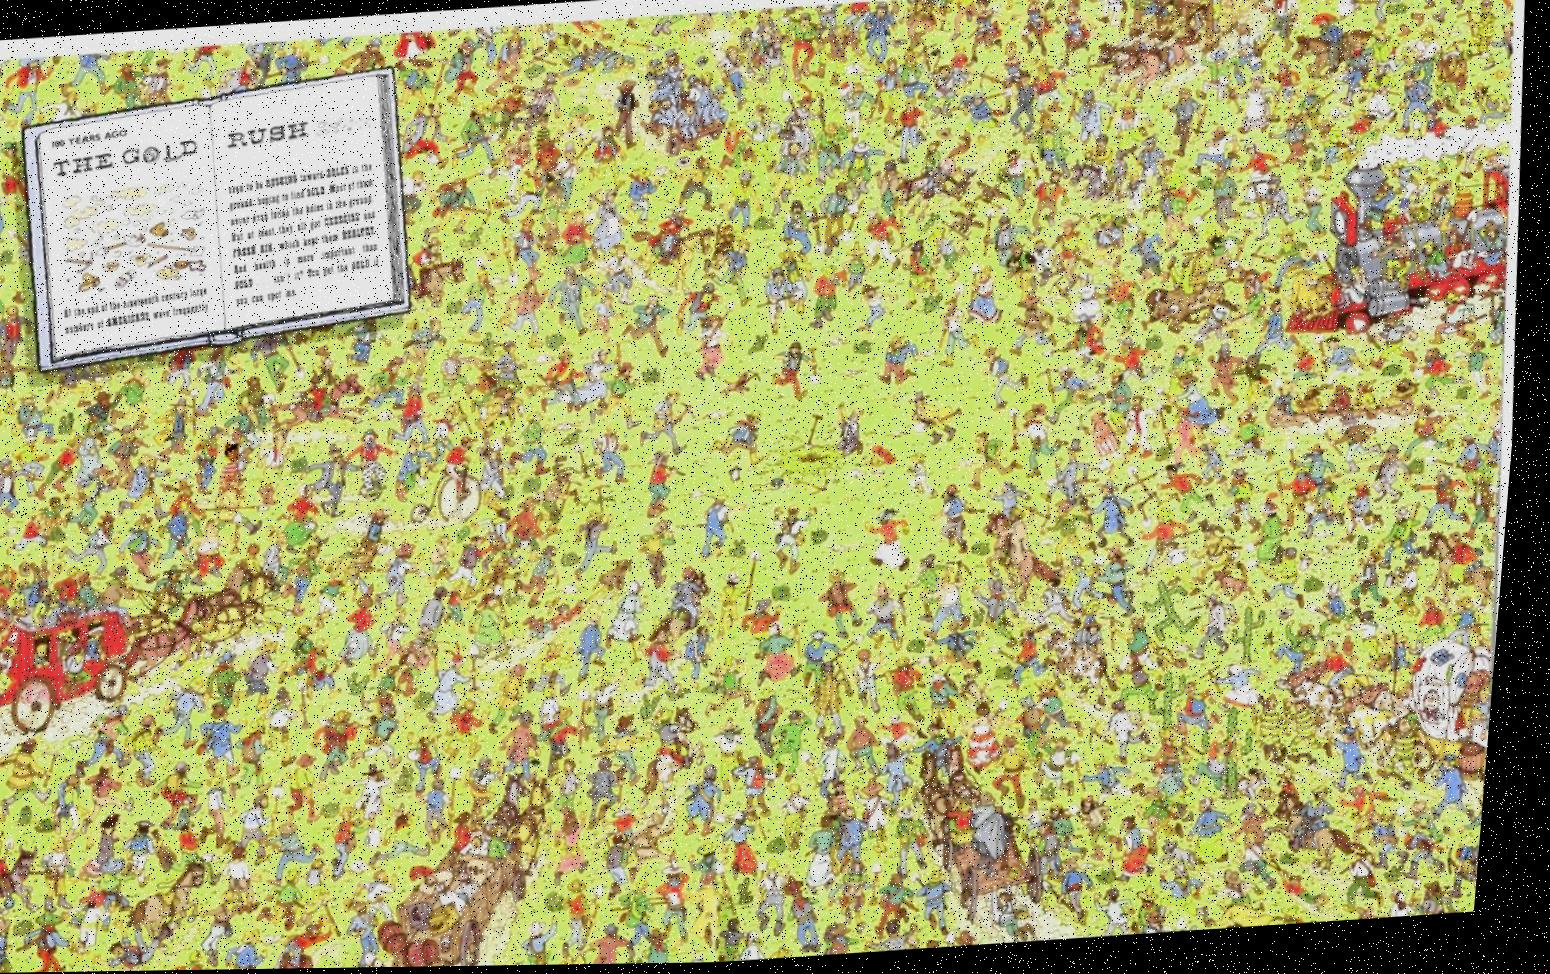waldo: (231, 444, 248, 463)
